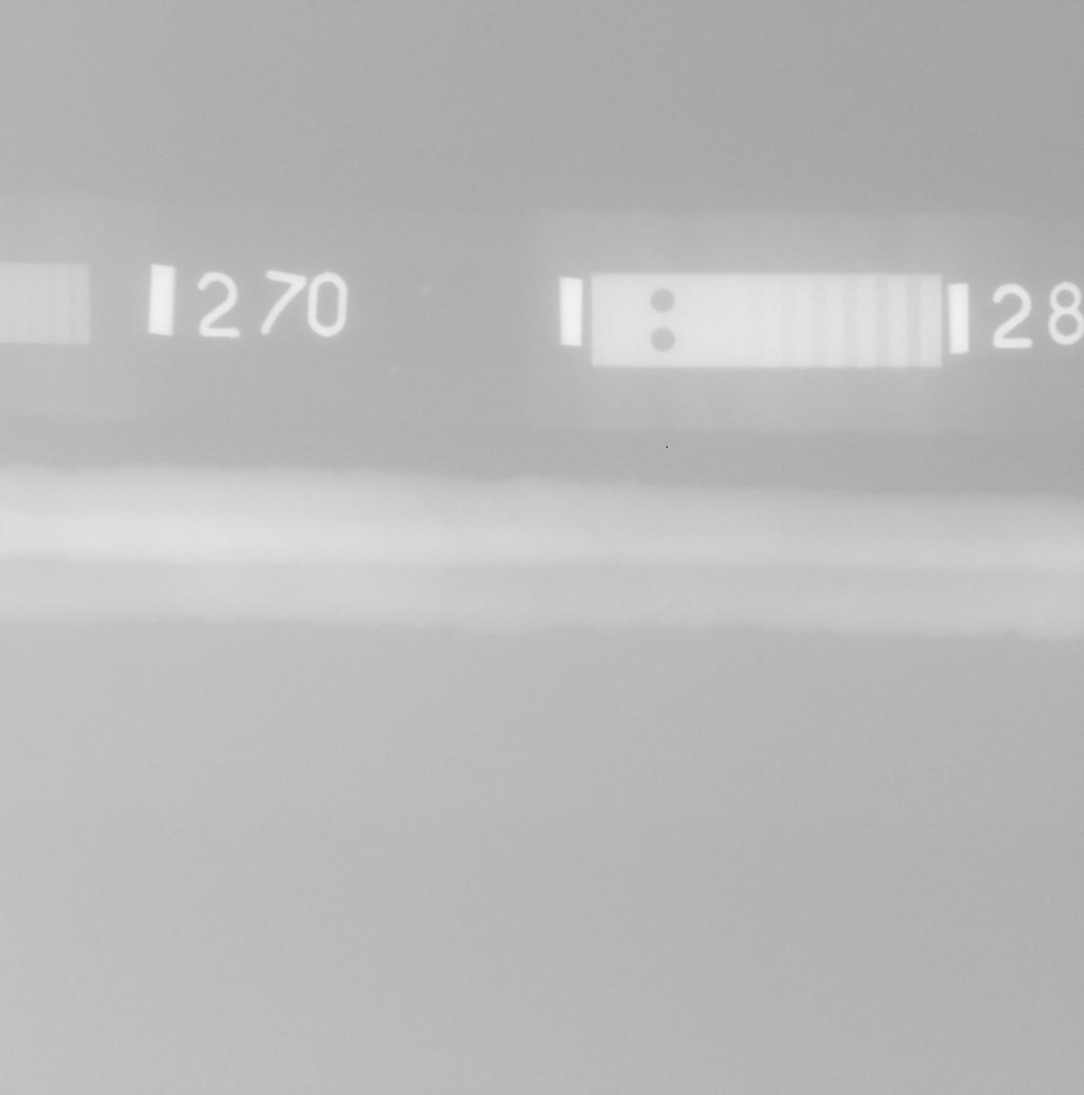Reference Standard 2: (589, 272, 941, 369)
